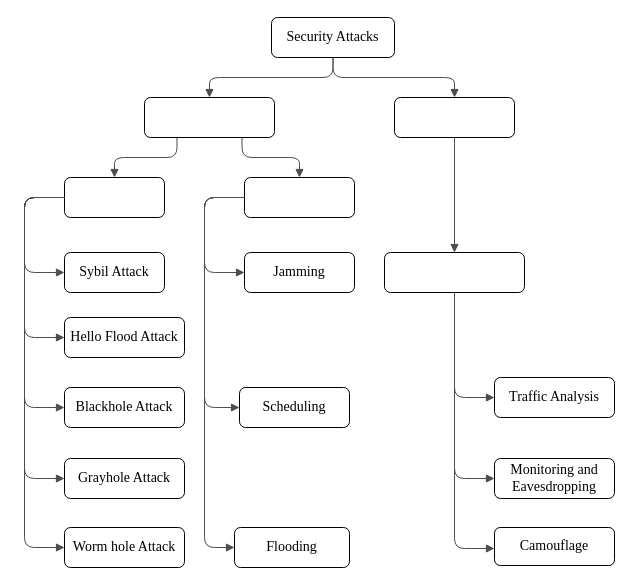
The diagram is 632 pixels wide and 585 high, and some of its shapes have lost their labels. Here are the shapes that lost their labels. From the top down, the centre of each, then its label:
pixel 209 117: Active Attacks
pixel 454 117: Passive Attacks
pixel 114 197: Routing Attacks
pixel 299 197: Denial of Service
pixel 454 272: Attack against Privacy
